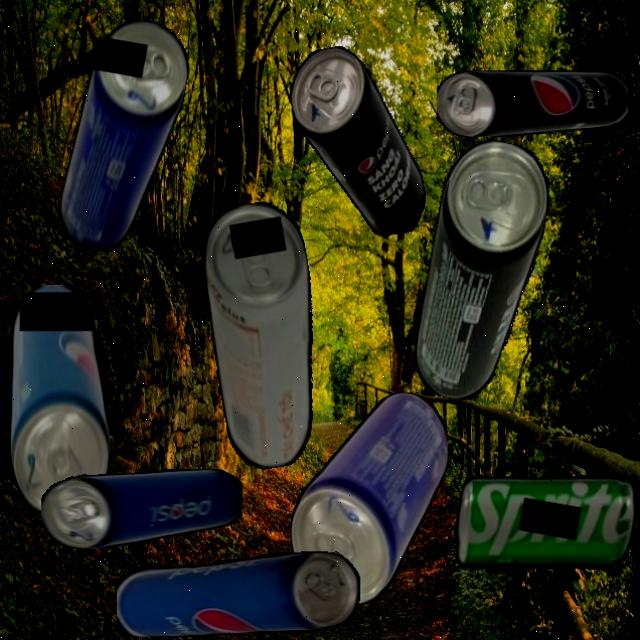debris: (190, 196, 341, 474), (407, 134, 558, 408), (54, 13, 195, 261), (290, 391, 448, 604), (284, 36, 431, 248), (449, 452, 640, 597), (9, 284, 110, 513), (116, 551, 360, 637), (41, 468, 243, 548), (437, 69, 628, 137)
